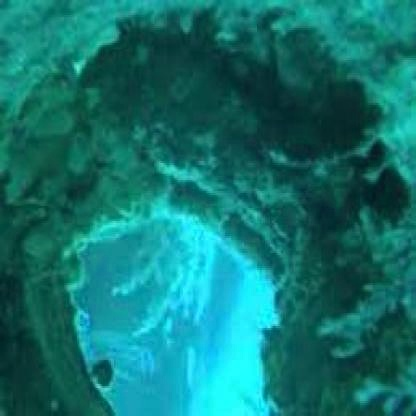tire: (62, 36, 416, 415)
